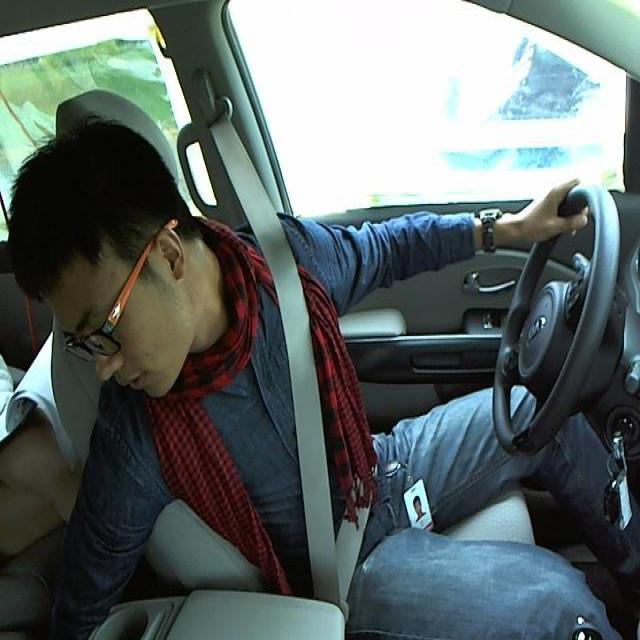seatbelt: (258, 237, 377, 595)
